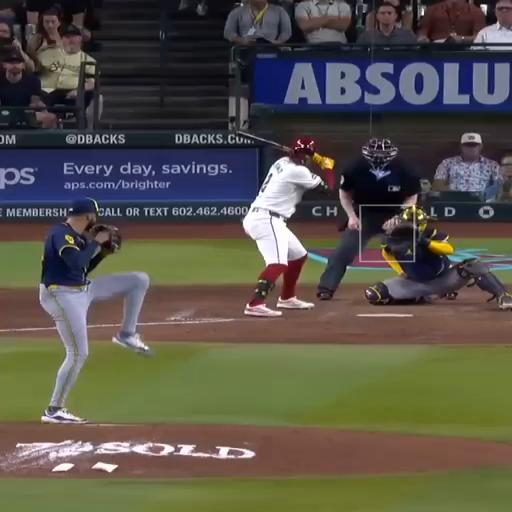bat: (235, 131, 289, 151)
